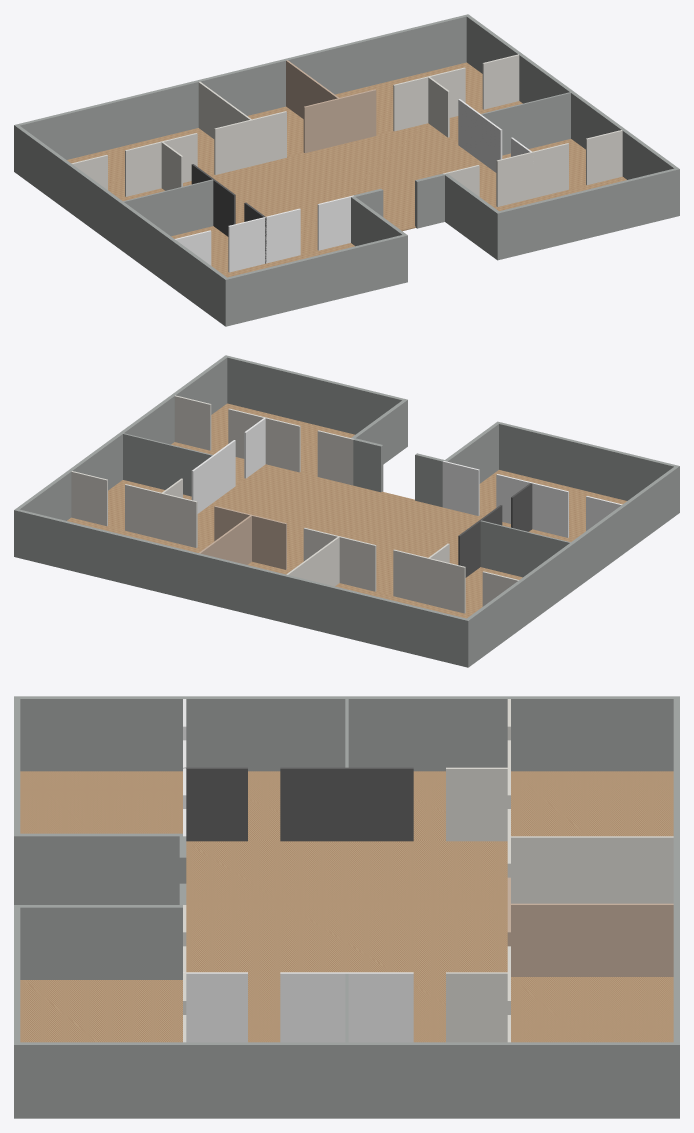
File: floor.glb
3 views of the same model, one above another, from view 1: azimuth 30°, elevation 25°; view 2: azimuth 150°, elevation 25°; view 3: azimuth 270°, elevation 25° (orthographic). The views are drawn at different scales.
Parts seen in each view (by area): view 1: HQFoundationWall-horizontal-m1206-0-part-0, GalleryFoundation-hub, HQFoundationWall-vertical-m1500-0-part-0, HQFoundationWall-horizontal-1206-1-part-0, HQFoundationWall-horizontal-1206-0-part-0, HQFoundationWall-vertical-1500-0-part-0, HQFoundationWall-horizontal-m606-0-part-3, HQFoundationWall-horizontal-m606-0-part-2, HQFoundationWall-horizontal-606-0-courtyard-2-part-1, HQFoundationWall-horizontal-606-0-courtyard-0-part-1, HQFoundationWall-horizontal-0-1200-centered-part-0, HQFoundationWall-horizontal-0-m1200-centered-part-0 (+24 smaller); view 2: HQFoundationWall-horizontal-m1206-0-part-0, GalleryFoundation-hub, HQFoundationWall-vertical-m1500-0-part-0, HQFoundationWall-horizontal-1206-1-part-0, HQFoundationWall-horizontal-1206-0-part-0, HQFoundationWall-vertical-1500-0-part-0, HQFoundationWall-horizontal-m606-0-part-4, HQFoundationWall-horizontal-m606-0-part-1, HQFoundationWall-horizontal-0-1200-centered-part-0, HQFoundationWall-horizontal-0-m1200-centered-part-0, HQFoundationWall-horizontal-606-0-courtyard-2-part-1, HQFoundationWall-horizontal-606-0-courtyard-0-part-1 (+24 smaller); view 3: HQFoundationWall-vertical-1500-0-part-0, HQFoundationWall-vertical-m1500-0-part-0, GalleryFoundation-hub, HQFoundationWall-vertical-300-1-part-0, HQFoundationWall-vertical-300-0-part-0, HQFoundationWall-vertical-m300-1-part-0, HQFoundationWall-vertical-m300-0-part-0, GalleryFoundation-bottom-left, GalleryFoundation-bottom-right, GalleryFoundation-top-left, GalleryFoundation-top-right, HQFoundationWall-vertical-m900-0-part-1 (+10 smaller).
Boxes of the visible parts, bbox=[...] form: HQFoundationWall-horizontal-m1206-0-part-0: bbox=[14, 14, 469, 172]; GalleryFoundation-hub: bbox=[183, 123, 496, 254]; HQFoundationWall-vertical-m1500-0-part-0: bbox=[14, 124, 229, 326]; HQFoundationWall-horizontal-1206-1-part-0: bbox=[495, 168, 679, 260]; HQFoundationWall-horizontal-1206-0-part-0: bbox=[223, 234, 407, 326]; HQFoundationWall-vertical-1500-0-part-0: bbox=[466, 15, 679, 215]; HQFoundationWall-horizontal-m606-0-part-3: bbox=[303, 89, 376, 153]; HQFoundationWall-horizontal-m606-0-part-2: bbox=[214, 111, 286, 174]; HQFoundationWall-horizontal-606-0-courtyard-2-part-1: bbox=[496, 143, 568, 206]; HQFoundationWall-horizontal-606-0-courtyard-0-part-1: bbox=[228, 208, 300, 272]; HQFoundationWall-horizontal-0-1200-centered-part-0: bbox=[481, 92, 570, 155]; HQFoundationWall-horizontal-0-m1200-centered-part-0: bbox=[123, 179, 213, 236]; HQFoundationWall-horizontal-m1206-0-part-0: bbox=[14, 508, 470, 667]; GalleryFoundation-hub: bbox=[197, 464, 510, 595]; HQFoundationWall-vertical-m1500-0-part-0: bbox=[464, 465, 679, 667]; HQFoundationWall-horizontal-1206-1-part-0: bbox=[224, 355, 407, 447]; HQFoundationWall-horizontal-1206-0-part-0: bbox=[496, 421, 679, 512]; HQFoundationWall-vertical-1500-0-part-0: bbox=[14, 356, 227, 553]; HQFoundationWall-horizontal-m606-0-part-4: bbox=[125, 484, 197, 547]; HQFoundationWall-horizontal-m606-0-part-1: bbox=[393, 549, 465, 613]; HQFoundationWall-horizontal-0-1200-centered-part-0: bbox=[123, 433, 212, 496]; HQFoundationWall-horizontal-0-m1200-centered-part-0: bbox=[480, 520, 570, 577]; HQFoundationWall-horizontal-606-0-courtyard-2-part-1: bbox=[228, 408, 300, 472]; HQFoundationWall-horizontal-606-0-courtyard-0-part-1: bbox=[496, 474, 568, 537]; HQFoundationWall-vertical-1500-0-part-0: bbox=[14, 1042, 679, 1118]; HQFoundationWall-vertical-m1500-0-part-0: bbox=[15, 696, 679, 771]; GalleryFoundation-hub: bbox=[186, 840, 507, 1042]; HQFoundationWall-vertical-300-1-part-0: bbox=[14, 905, 182, 979]; HQFoundationWall-vertical-300-0-part-0: bbox=[511, 903, 673, 976]; HQFoundationWall-vertical-m300-1-part-0: bbox=[14, 833, 182, 904]; HQFoundationWall-vertical-m300-0-part-0: bbox=[511, 836, 673, 903]; GalleryFoundation-bottom-left: bbox=[511, 771, 673, 836]; GalleryFoundation-bottom-right: bbox=[511, 977, 673, 1042]; GalleryFoundation-top-left: bbox=[20, 771, 182, 833]; GalleryFoundation-top-right: bbox=[20, 980, 182, 1042]; HQFoundationWall-vertical-m900-0-part-1: bbox=[280, 767, 413, 841].
Size of the model in its own units: 3048 by 300 by 2460.
Materials: 12 (3 with a texture image).
